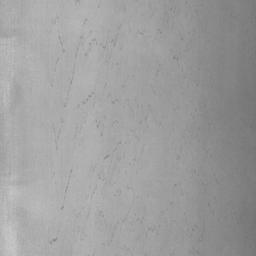Silk spot: (100, 33, 119, 50), (77, 92, 96, 108), (58, 36, 65, 53)
